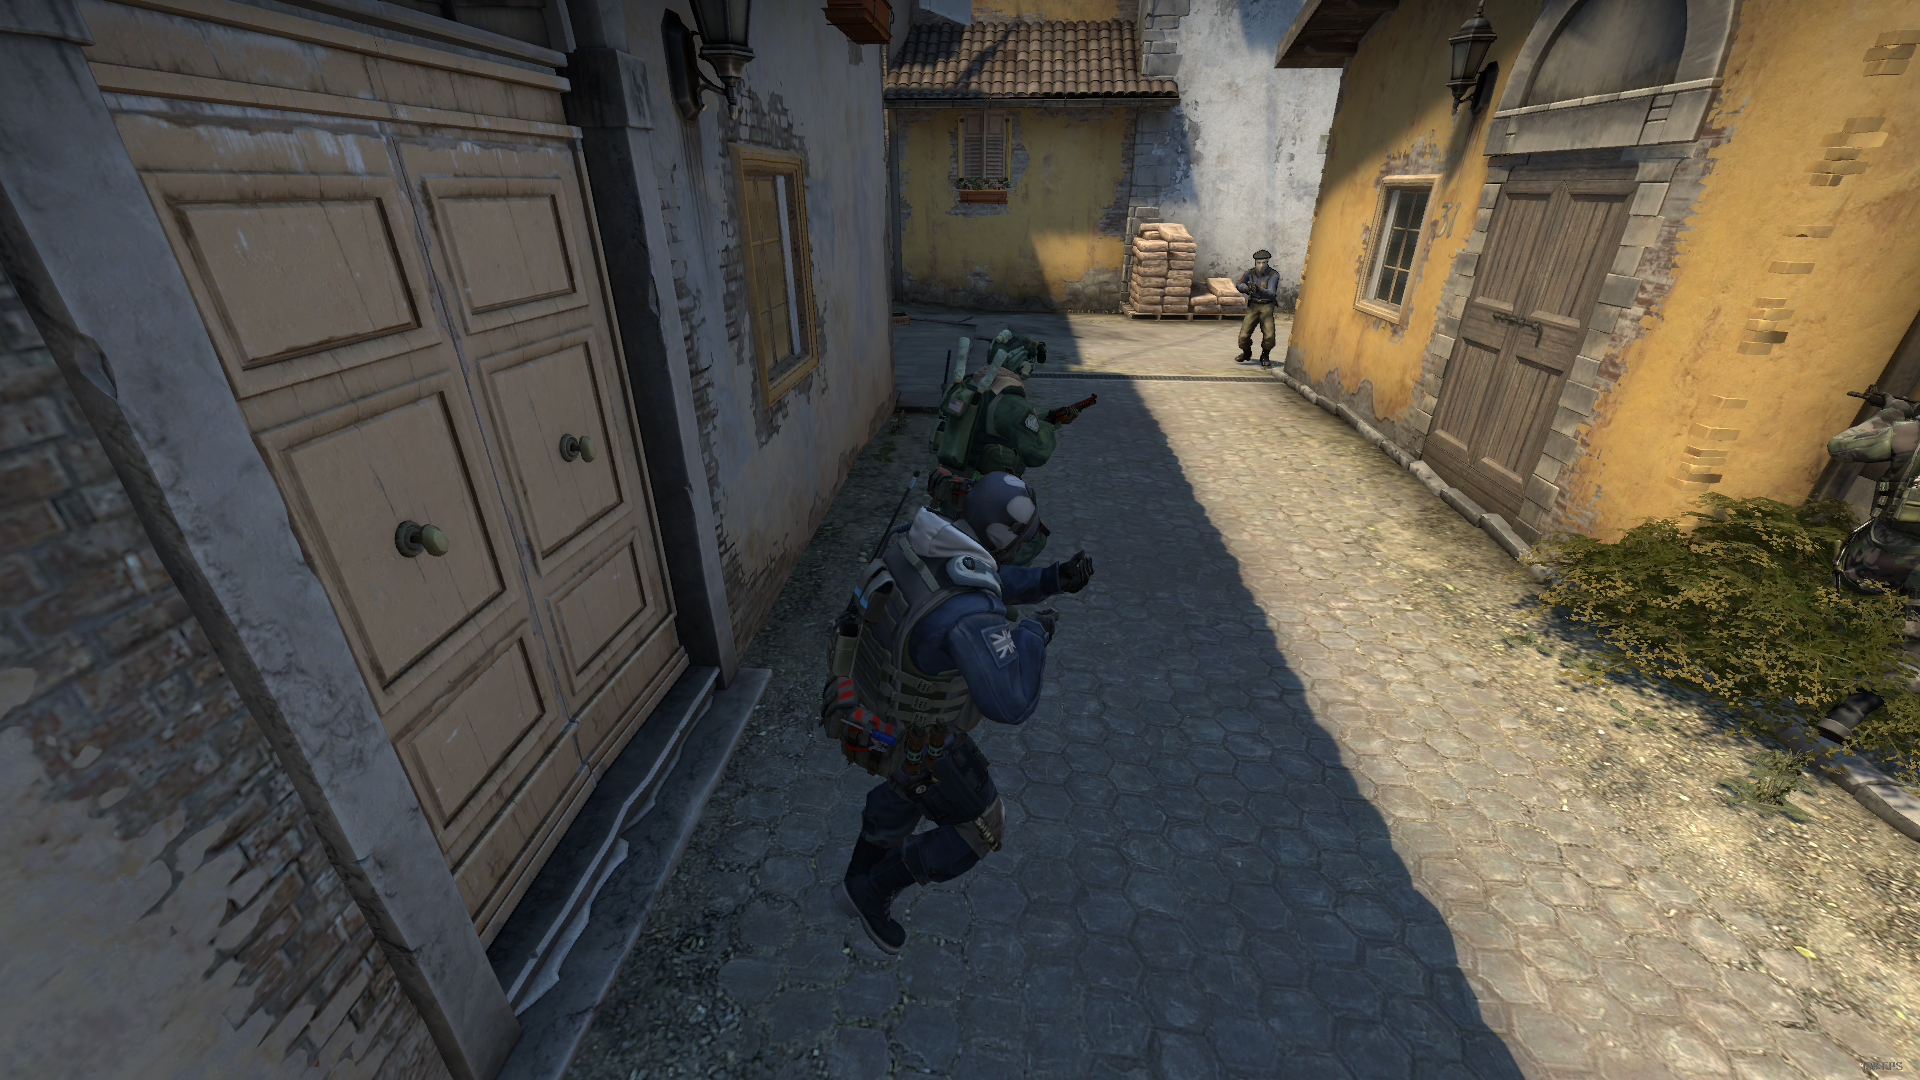ct: (824, 472, 1095, 955)
t: (1233, 245, 1282, 373)
